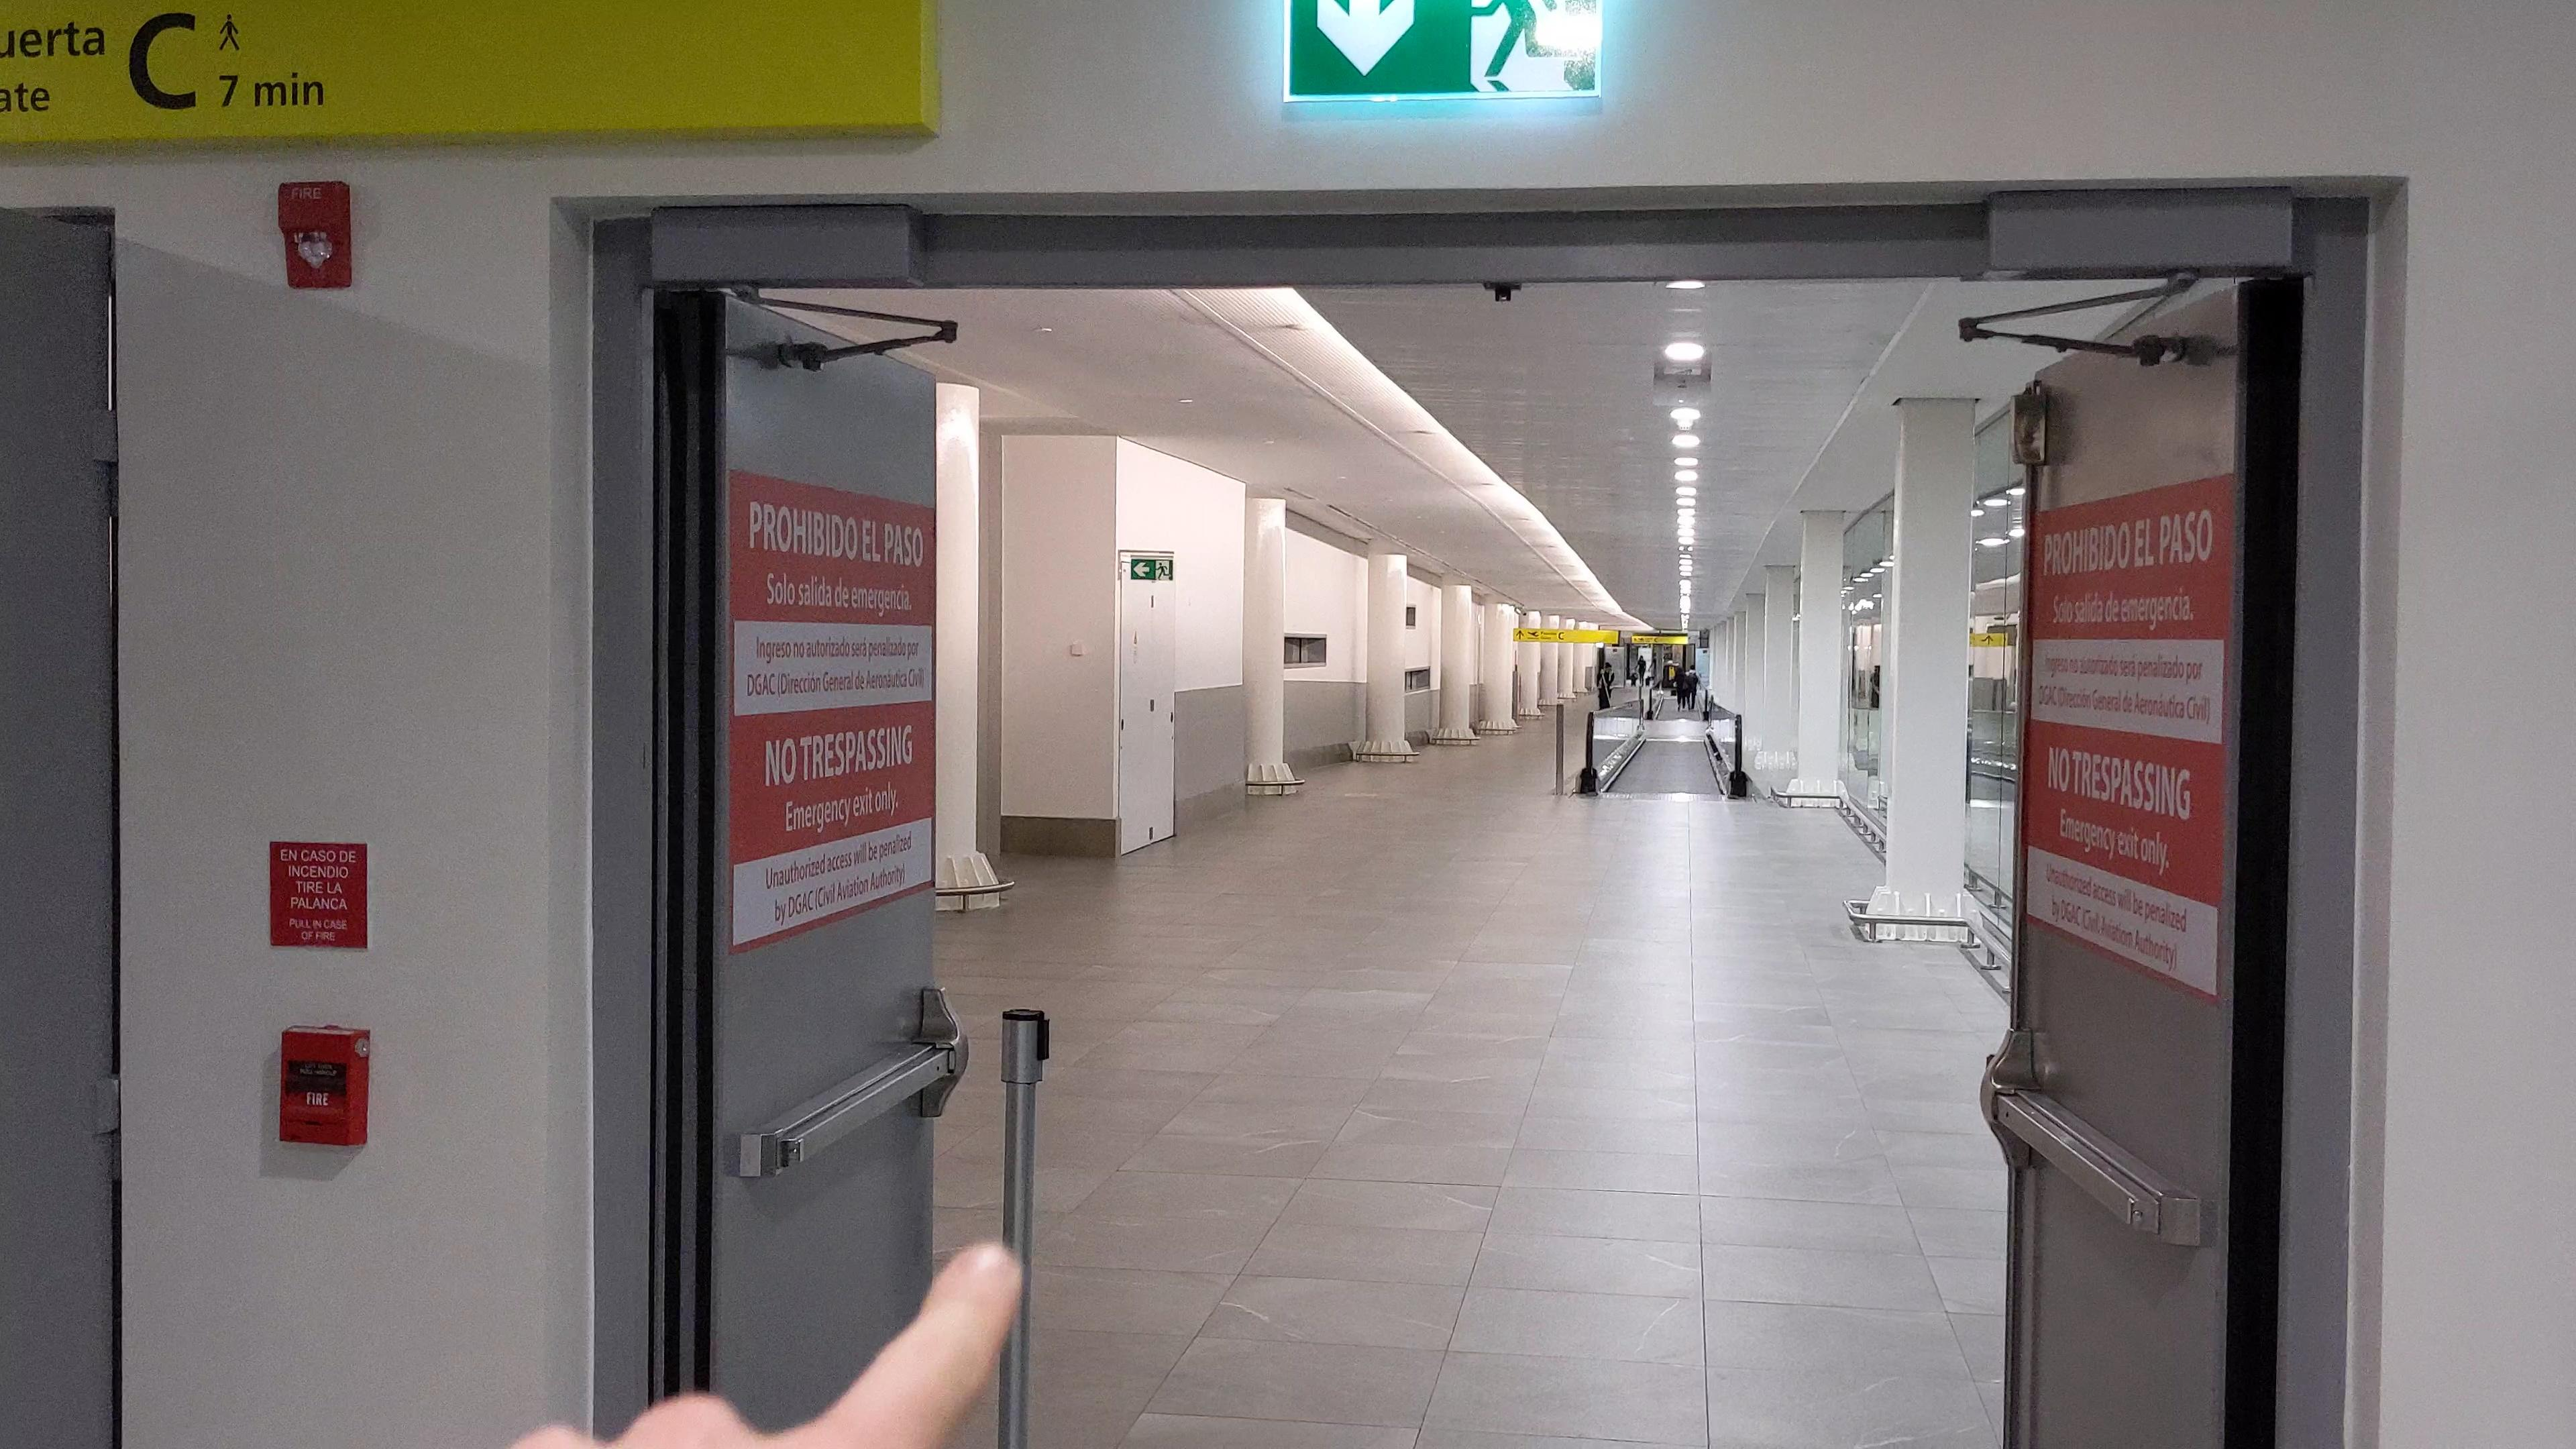airplane symbol: (1527, 630, 1540, 638)
emergency down arrow: (1311, 1, 1417, 83)
emergency exit: (1461, 1, 1602, 95), (1155, 560, 1172, 582)
emergency left arrow: (1133, 560, 1152, 578)
no trespassing: (719, 462, 947, 965), (2030, 534, 2224, 977)
thin up arrow: (1515, 629, 1524, 641)
